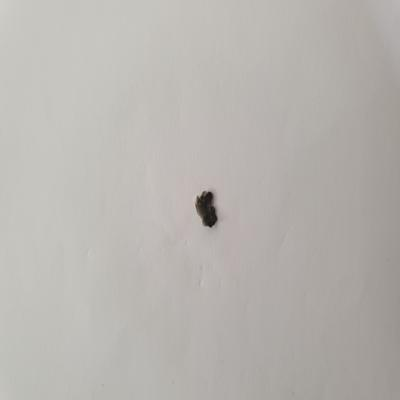plastic: (191, 185, 227, 233)
